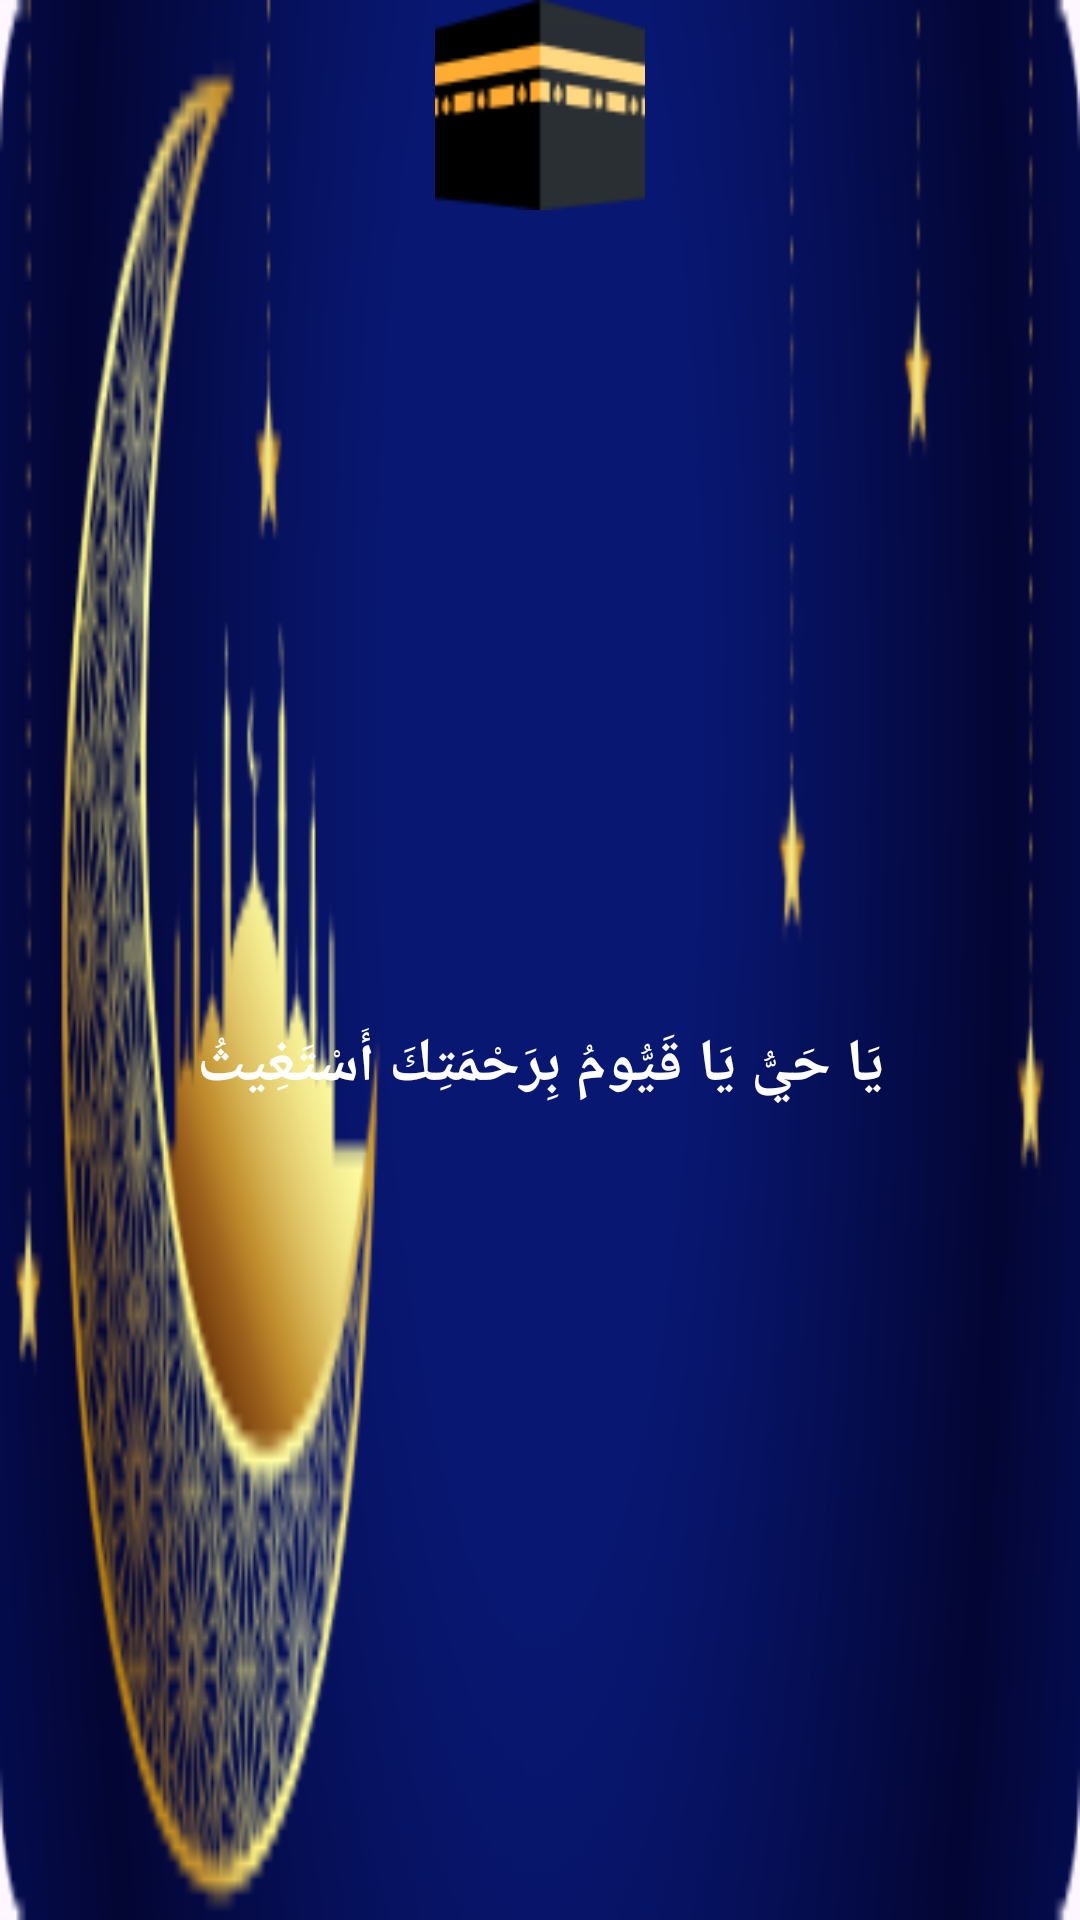

Icon click points for this 1080x1920 phone screenshot, format (x=x, y=y):
qibla: (x=540, y=105)
